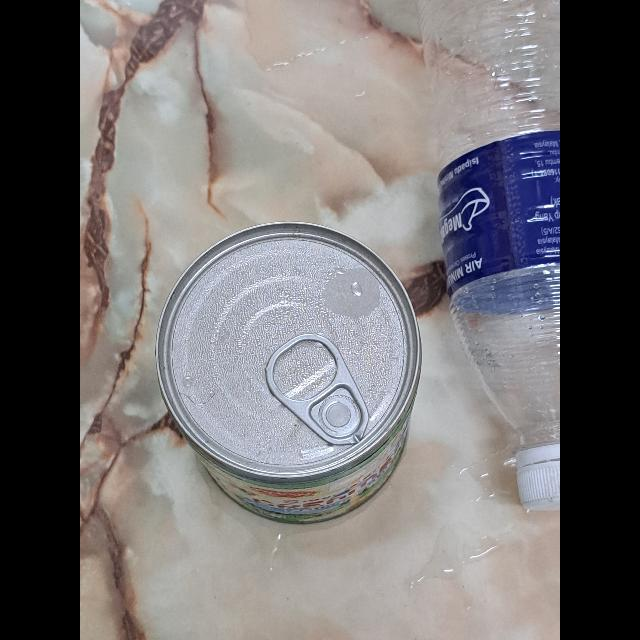aba de lata: (266, 334, 366, 444)
garrafa plástica: (424, 0, 560, 452)
lata: (154, 221, 420, 524)
tampa plástica: (518, 448, 560, 512)
